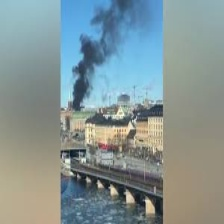smoke: (68, 4, 126, 107)
